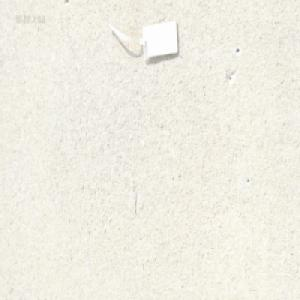LuggageTag: (105, 17, 179, 64)
